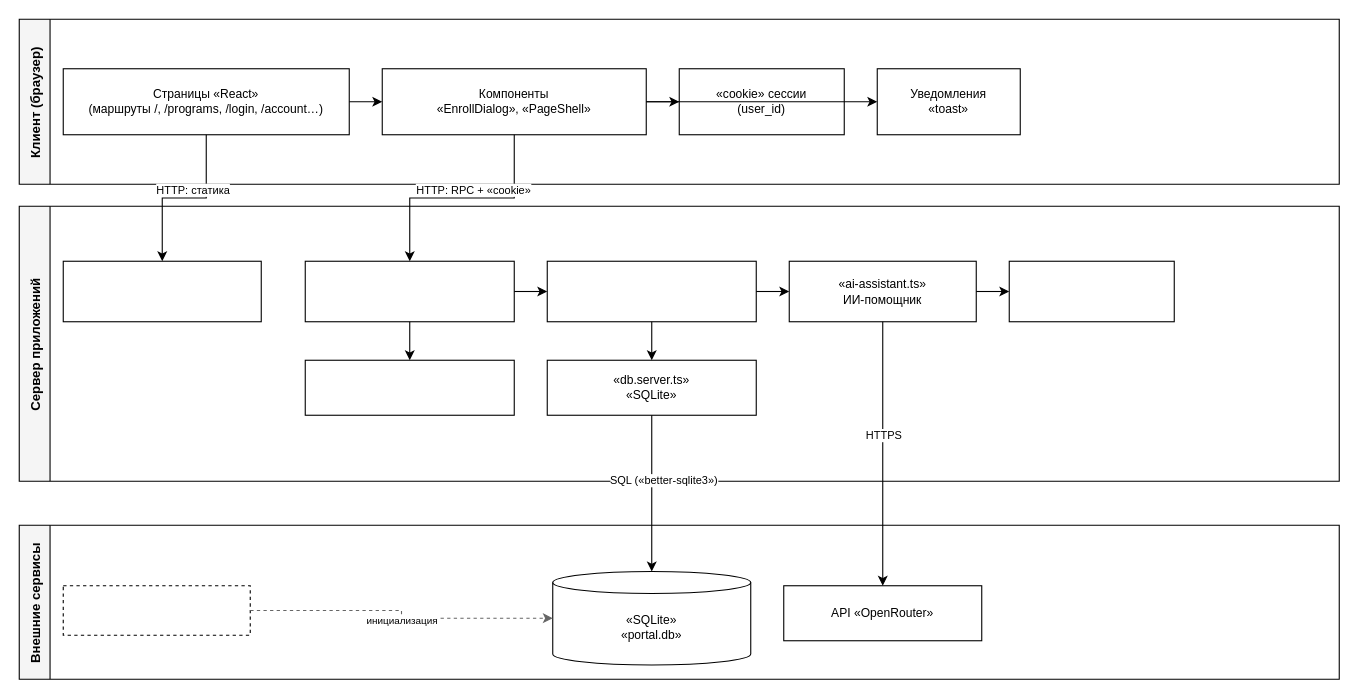
The diagram is 1359 pixels wide and 699 high, and some of its shapes have lost their labels. The shapes that lost their labels are listed below. From the top down, each one's centre as x and y in pixels, then its label:
(x=161, y=291): Раздача статики «CSS», «HTML», «JS»
(x=409, y=291): Серверные функции «createServerFn»
(x=651, y=291): «portal-db.ts» БД, авторизация, заявки
(x=1091, y=291): Сессия «httpOnly» «cookie»
(x=409, y=387): «TanStack Router» «SSR»
(x=156, y=610): «database-schema.sqlite.sql»
